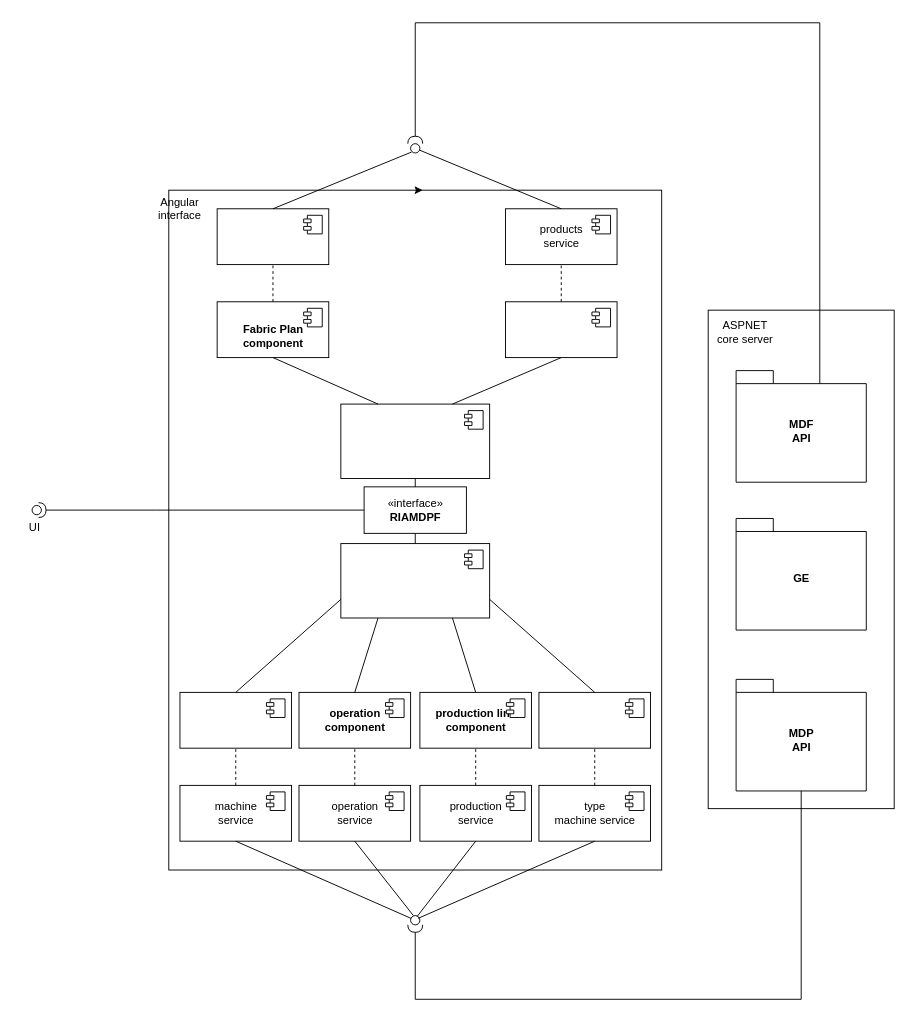
Image size: 910x1023. Some labels were removed from this diagram. Each missing label, with the centre of its shape:
"fabric plan service" belongs at point (272, 236).
"machine component" belongs at point (235, 719).
"Products component" belongs at point (561, 329).
"type machine component" belongs at point (594, 719).
"«component» MDF" belongs at point (415, 440).
"«component» MDP" belongs at point (415, 580).
